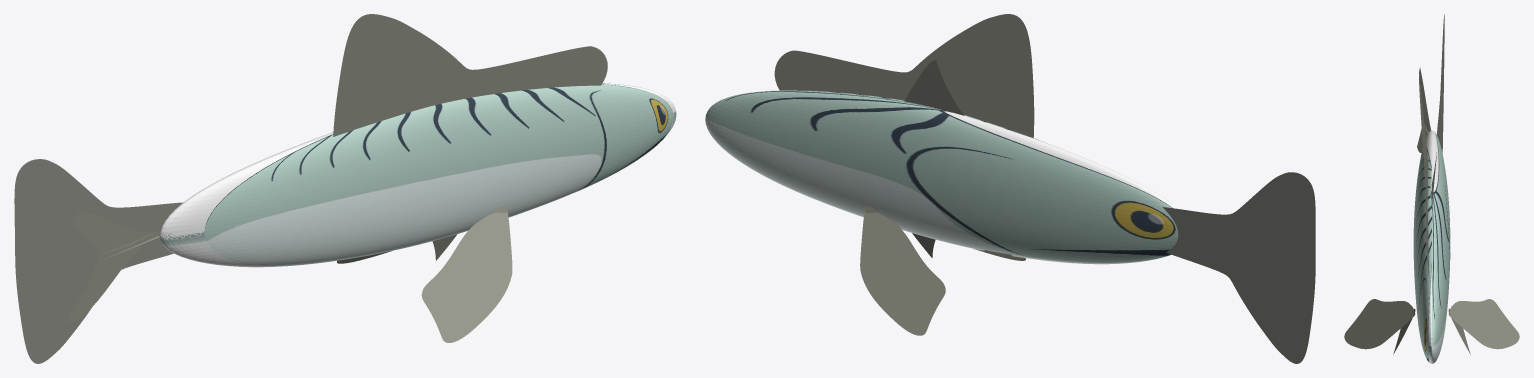
The model's file is simplefish2.glb.
3 views of the same model, side by side, from view 1: azimuth 30°, elevation 25°; view 2: azimuth 150°, elevation 25°; view 3: azimuth 270°, elevation 25° (orthographic). The views are drawn at different scales.
Parts seen in each view (by area): view 1: body, top_fin_2, back_fin_2, side_fin_2, back_fin_1; view 2: body, back_fin_2, top_fin_2, side_fin_2, top_fin_1; view 3: body, side_fin_2, top_fin_2, back_fin_2, back_fin_1, side_fin_1.
Boxes of the visible parts, x1,y1,x2,y2 form: body: (160, 83, 676, 267); top_fin_2: (333, 14, 607, 136); back_fin_2: (14, 159, 183, 363); side_fin_2: (337, 211, 512, 342); back_fin_1: (66, 212, 159, 323); body: (705, 90, 1178, 264); back_fin_2: (1162, 172, 1315, 363); top_fin_2: (774, 14, 1034, 256); side_fin_2: (860, 211, 1025, 335); top_fin_1: (904, 60, 964, 115); body: (1413, 130, 1450, 363); side_fin_2: (1344, 299, 1519, 349); top_fin_2: (1419, 76, 1429, 278); back_fin_2: (1437, 14, 1444, 152); back_fin_1: (1417, 67, 1431, 152); side_fin_1: (1393, 308, 1470, 354).
Size of the model in its own units: 86.07 by 38.25 by 24.68.
7 materials, 1 textured.
